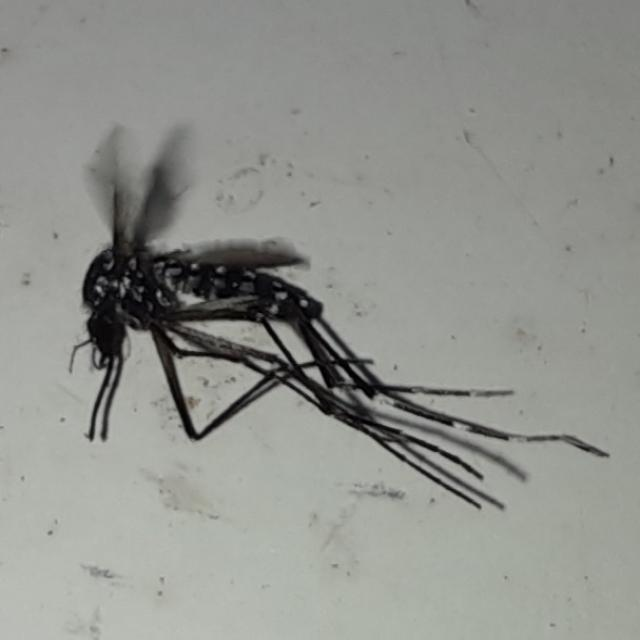albopictus: (61, 180, 583, 556)
